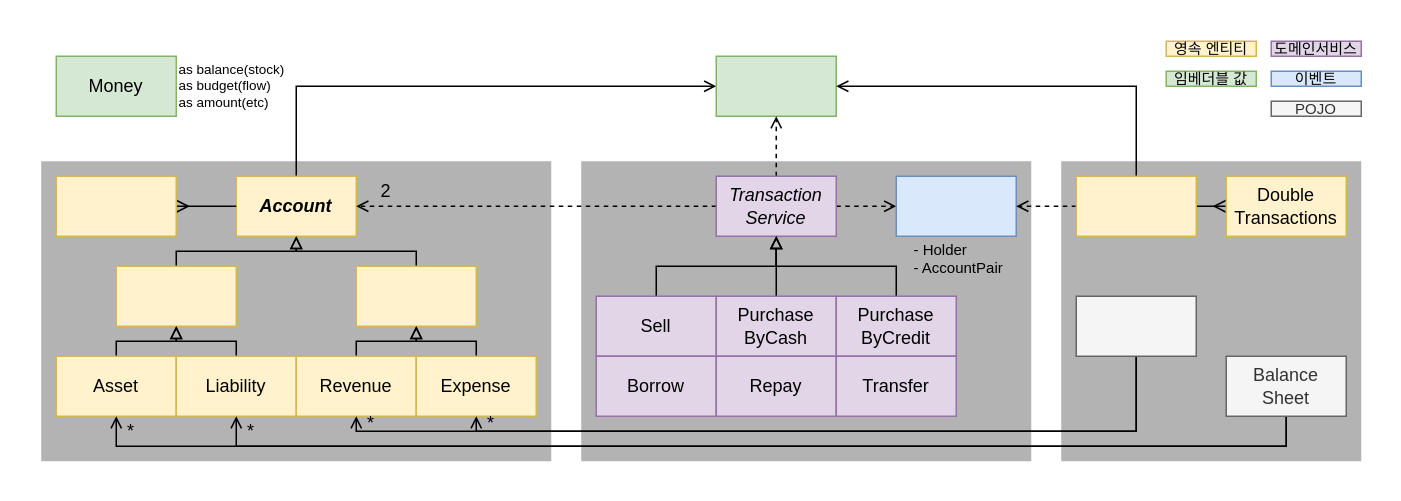
Image size: 1401x501. Some labels were removed from this diagram. The shapes that lost their labels are listed below. From the top down, each one's centre as x and y in pixels, then its label:
[775,85]: Holder
[115,205]: Single Transaction
[955,205]: Executed Event
[1135,205]: Ledger
[175,295]: Stock
[415,295]: Flow
[1135,325]: Income Statement
